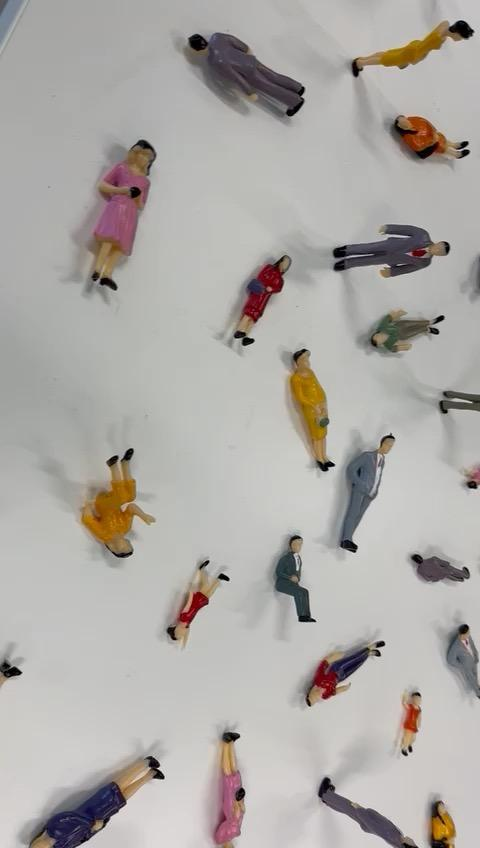human: (174, 9, 311, 121), (77, 127, 160, 296), (24, 759, 178, 848), (305, 763, 420, 848), (402, 491, 480, 613), (79, 431, 140, 585), (347, 9, 478, 80), (341, 212, 461, 288), (377, 81, 476, 171), (284, 345, 352, 474), (341, 423, 400, 567), (163, 537, 240, 647), (292, 643, 411, 711), (227, 248, 303, 351), (267, 524, 321, 640), (354, 309, 462, 364), (210, 710, 249, 848), (440, 607, 480, 706), (394, 674, 429, 763), (432, 374, 478, 428), (428, 791, 461, 848)
